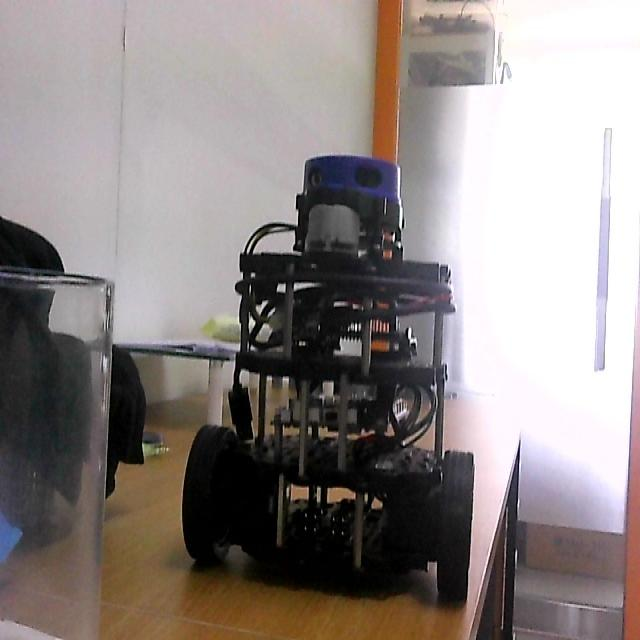turtle: (180, 151, 476, 614)
